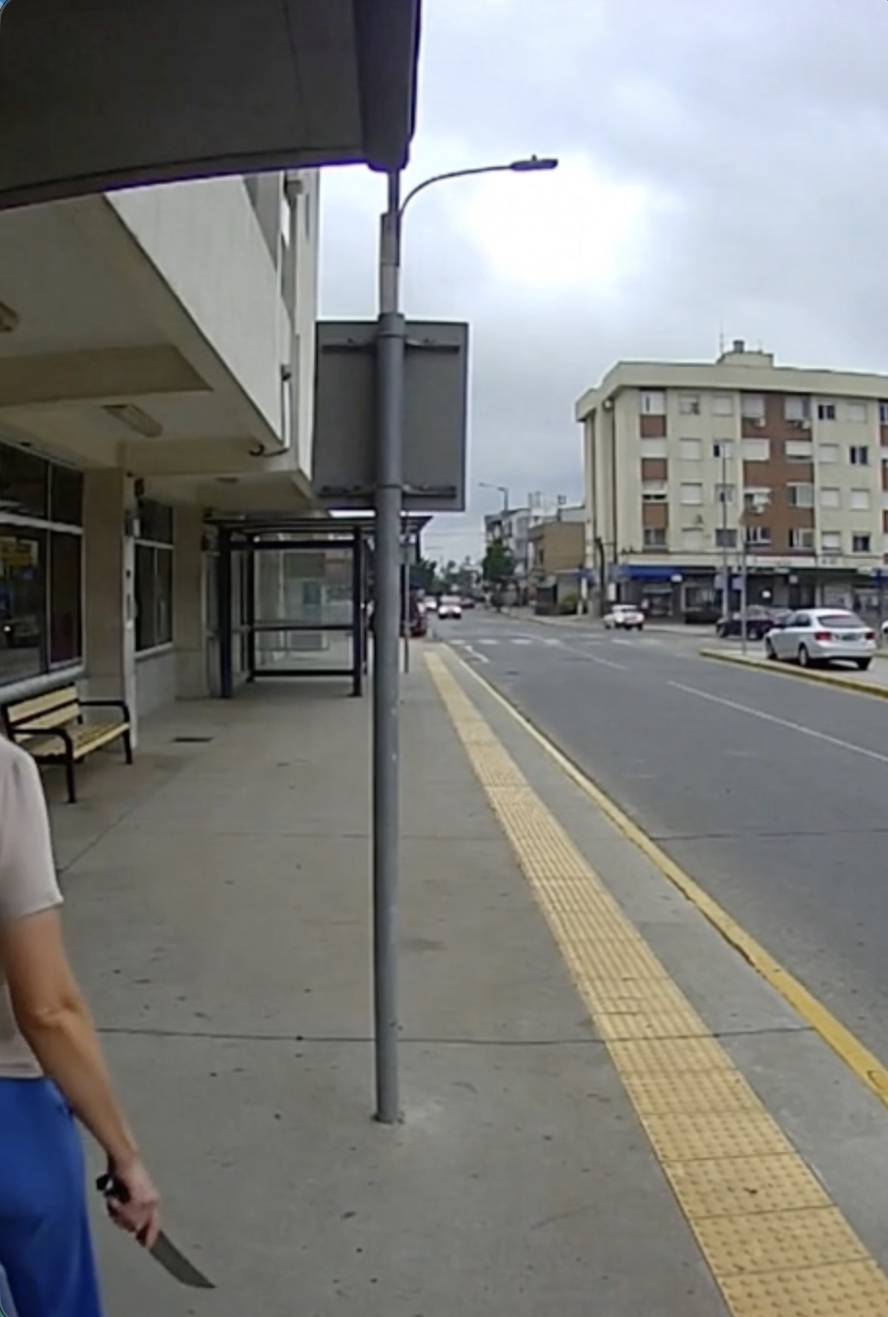Heavy Gun: (0, 702, 161, 1317)
Knife: (86, 1158, 222, 1293)
